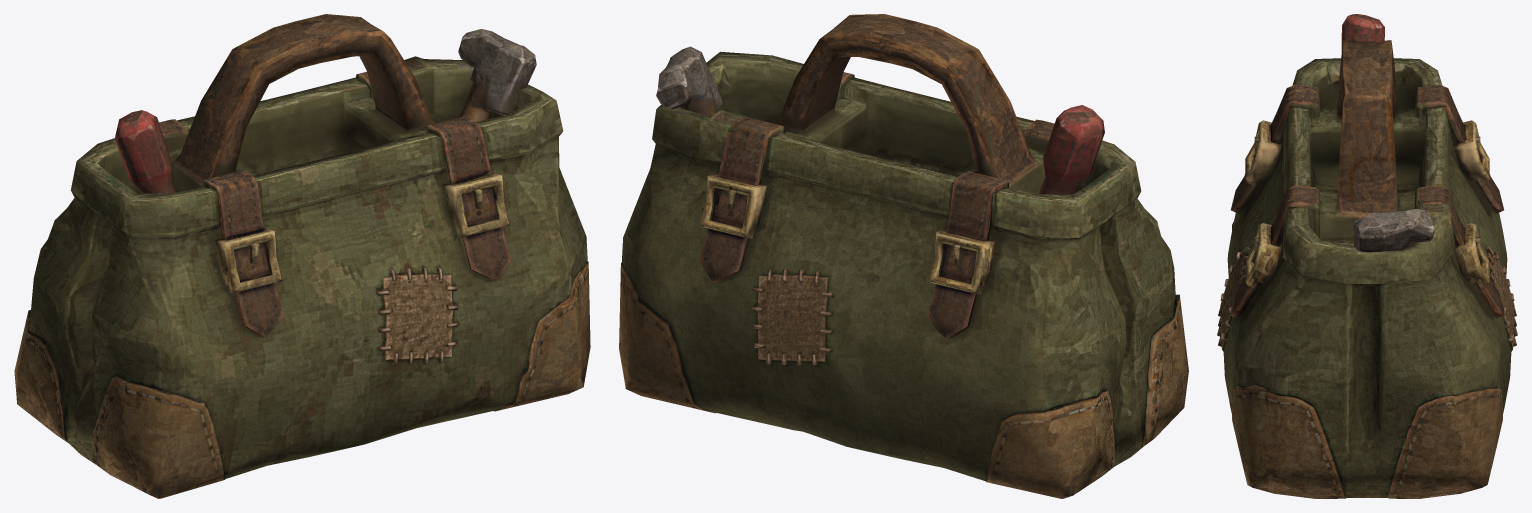
File: P01_toolbag_Runtime_1k.glb
The picture shows the model from 3 angles, left to right: view 1: azimuth 30°, elevation 25°; view 2: azimuth 150°, elevation 25°; view 3: azimuth 270°, elevation 25°; orthographic projection. The views are drawn at different scales.
Visible parts, largest first — view 1: f1d2d588_0ca6_49df_8607_031a5a8d2514; view 2: f1d2d588_0ca6_49df_8607_031a5a8d2514; view 3: f1d2d588_0ca6_49df_8607_031a5a8d2514.
Boxes of the visible parts, x1,y1,x2,y2 form: f1d2d588_0ca6_49df_8607_031a5a8d2514: (14, 14, 590, 498); f1d2d588_0ca6_49df_8607_031a5a8d2514: (619, 14, 1188, 498); f1d2d588_0ca6_49df_8607_031a5a8d2514: (1217, 14, 1517, 498).
Size of the model in its own units: 0.38 by 0.2924 by 0.2276.
Materials: 1 (1 with a texture image).
